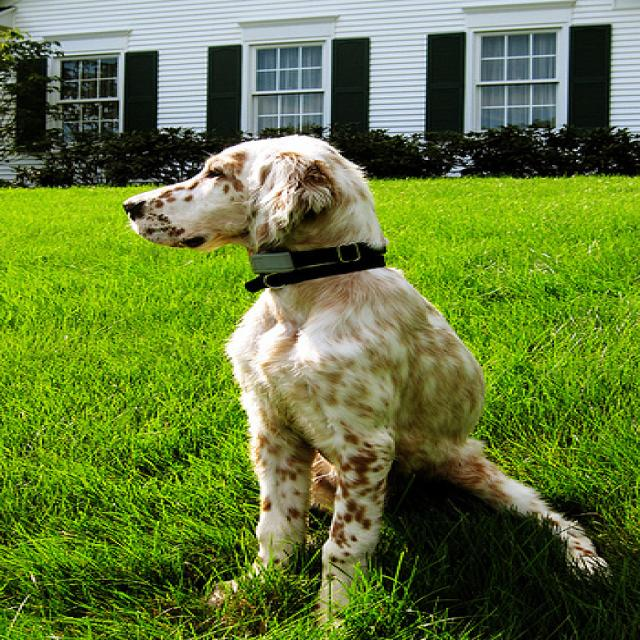dog-english_setter: (101, 123, 602, 635)
